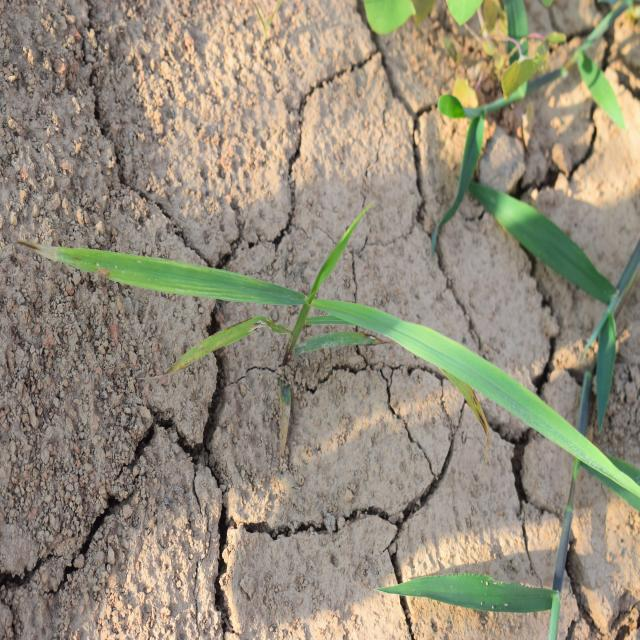green_foxtail: (62, 188, 552, 436)
